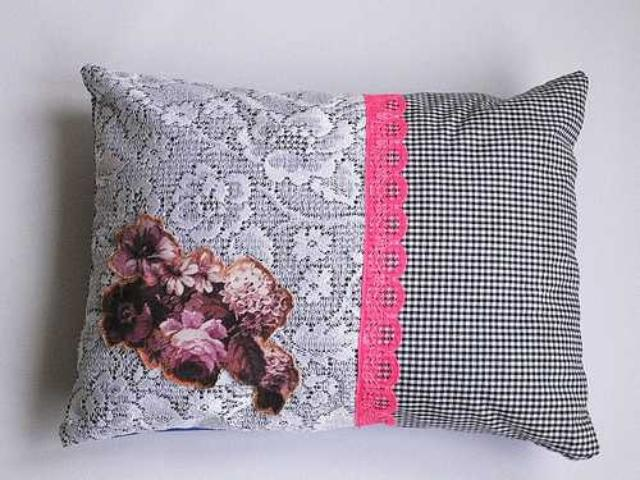pillow: (57, 60, 598, 460)
